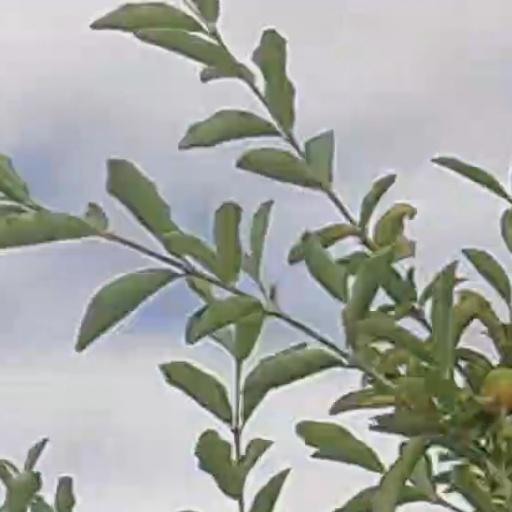acerola_vermelha: (482, 367, 512, 410)
